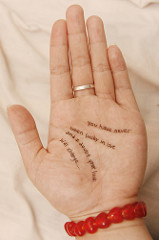palm: (36, 103, 147, 205)
